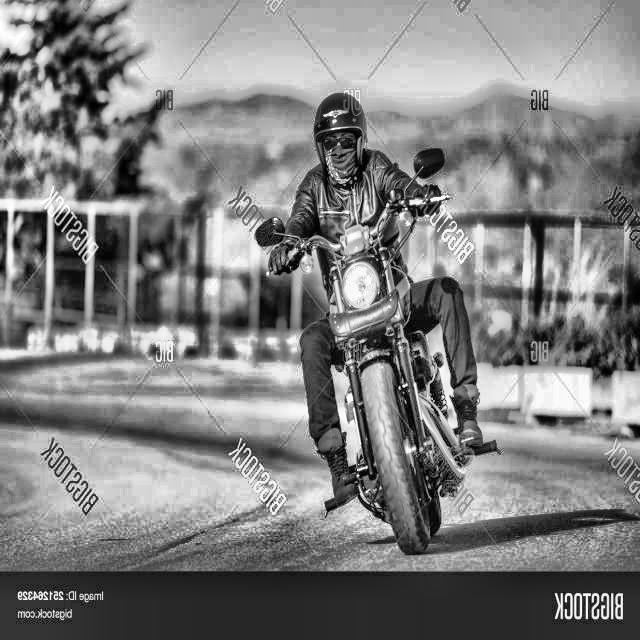motorcycle: (255, 146, 501, 557)
